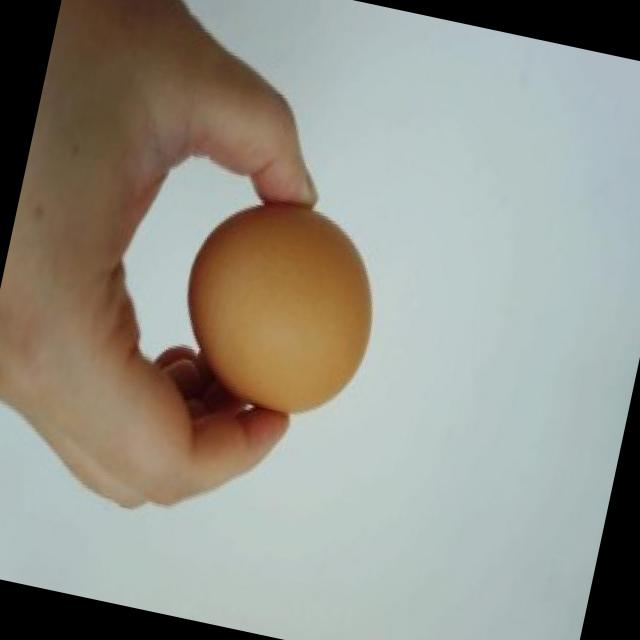eggs: (160, 184, 393, 430)
